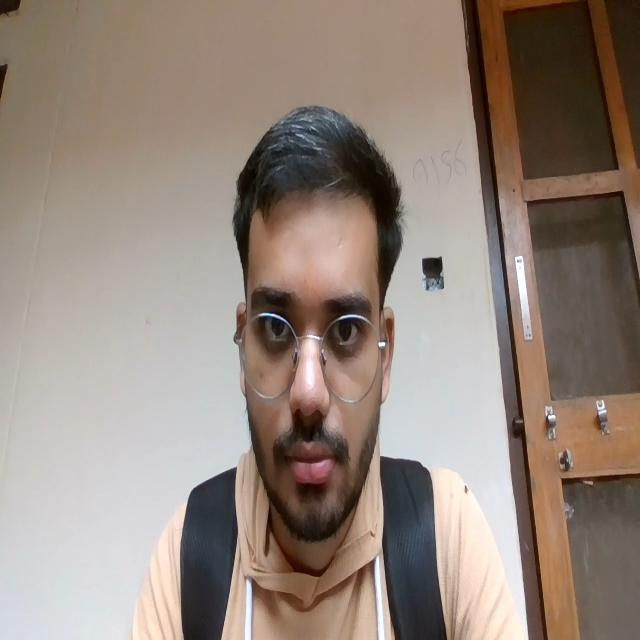awake: (246, 267, 368, 491)
